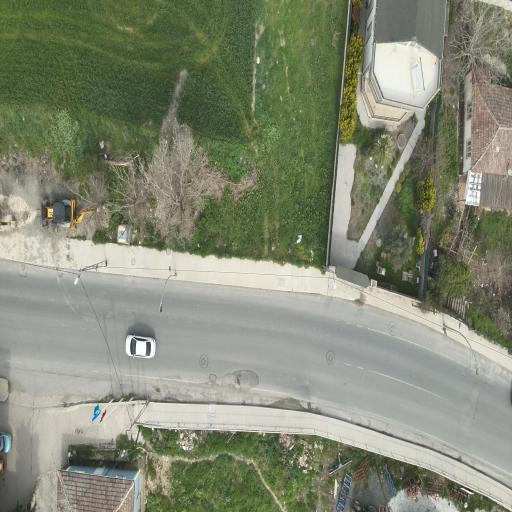car: (41, 198, 93, 229), (125, 336, 154, 358), (0, 432, 11, 453)
